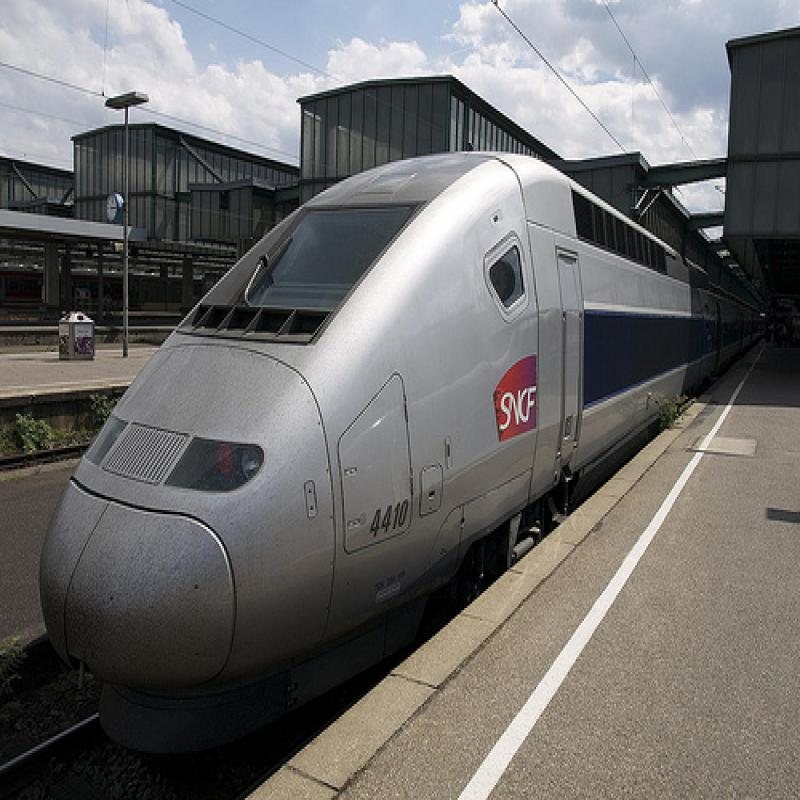train: (38, 146, 766, 767)
